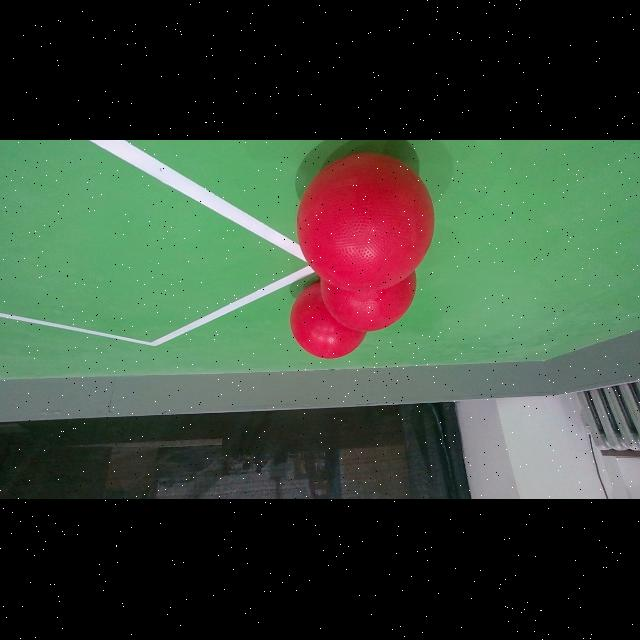R: (296, 153, 434, 293), (319, 248, 419, 334), (290, 280, 370, 362)
